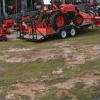Tractor: (27, 3, 96, 46)
